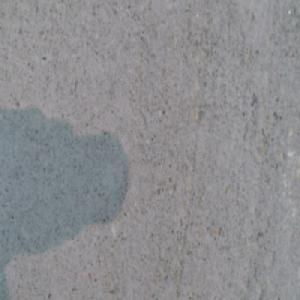Washer: (111, 286, 133, 300)
